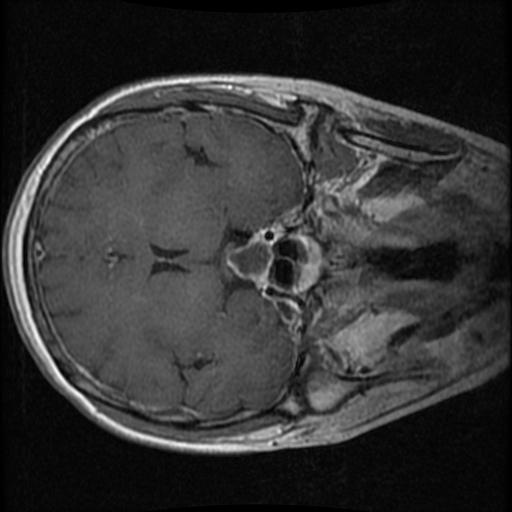pituitary tumour: (224, 232, 274, 289)
